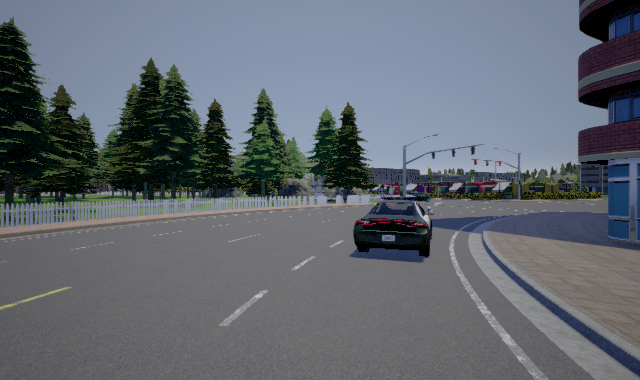traffic_light: (486, 160, 489, 166), (474, 159, 477, 165), (519, 180, 522, 185), (499, 161, 502, 166)
vehicle: (353, 192, 435, 257)
